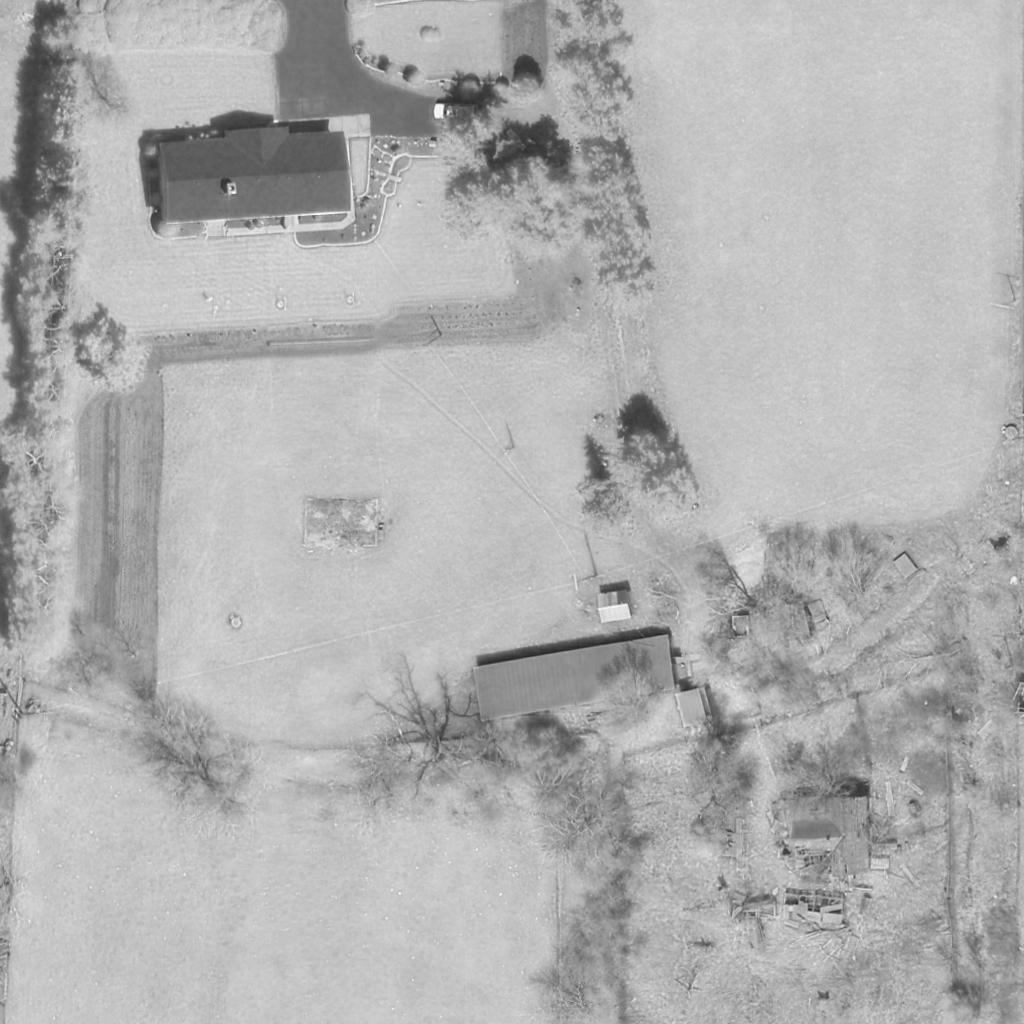vehicle: (431, 105, 481, 121)
